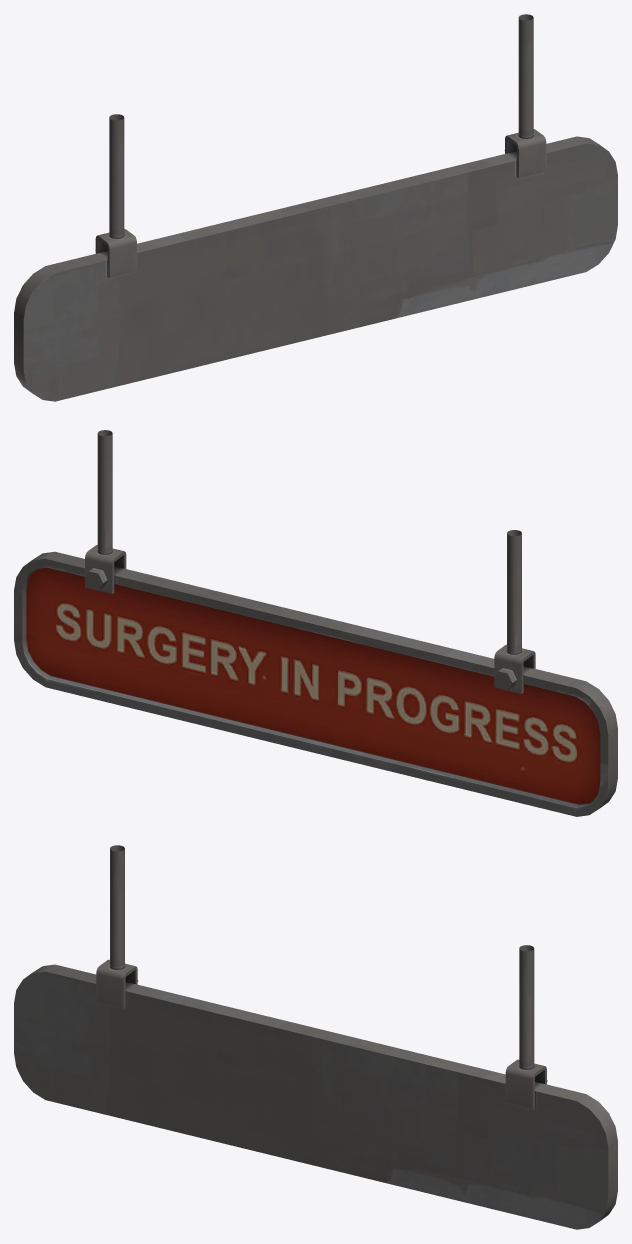
Rendered from med_sign000.glb.
The picture shows the model from 3 angles, top to bottom: view 1: azimuth 30°, elevation 25°; view 2: azimuth 150°, elevation 25°; view 3: azimuth 330°, elevation 25°; orthographic projection.
Parts seen in each view (by area): view 1: med_sign000; view 2: med_sign000; view 3: med_sign000.
Part boxes in pixels (x1,y1,x2,y2): med_sign000: (14, 14, 617, 401); med_sign000: (14, 430, 617, 816); med_sign000: (14, 845, 617, 1229).
Bounding box in the file's own units: 2.57 × 1.09 × 0.1405.
Materials: 1 (1 with a texture image).
